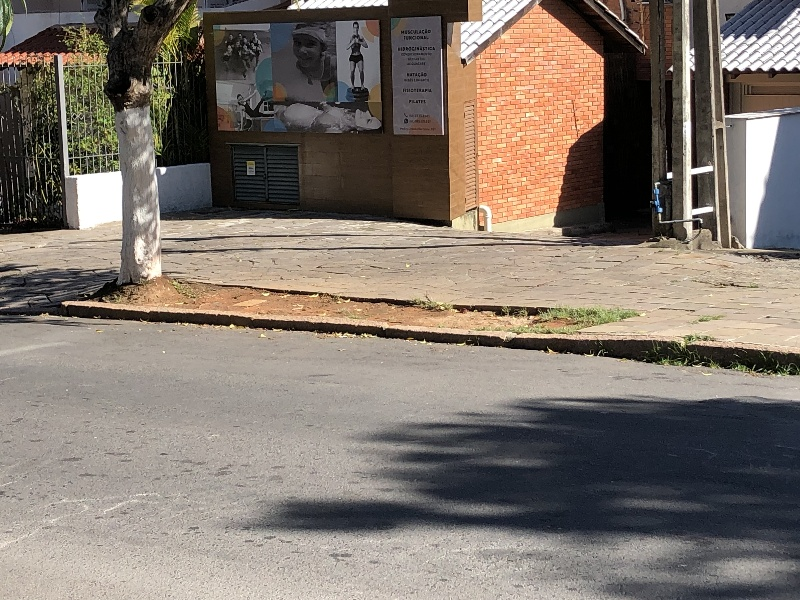v70: (85, 273, 793, 393)
